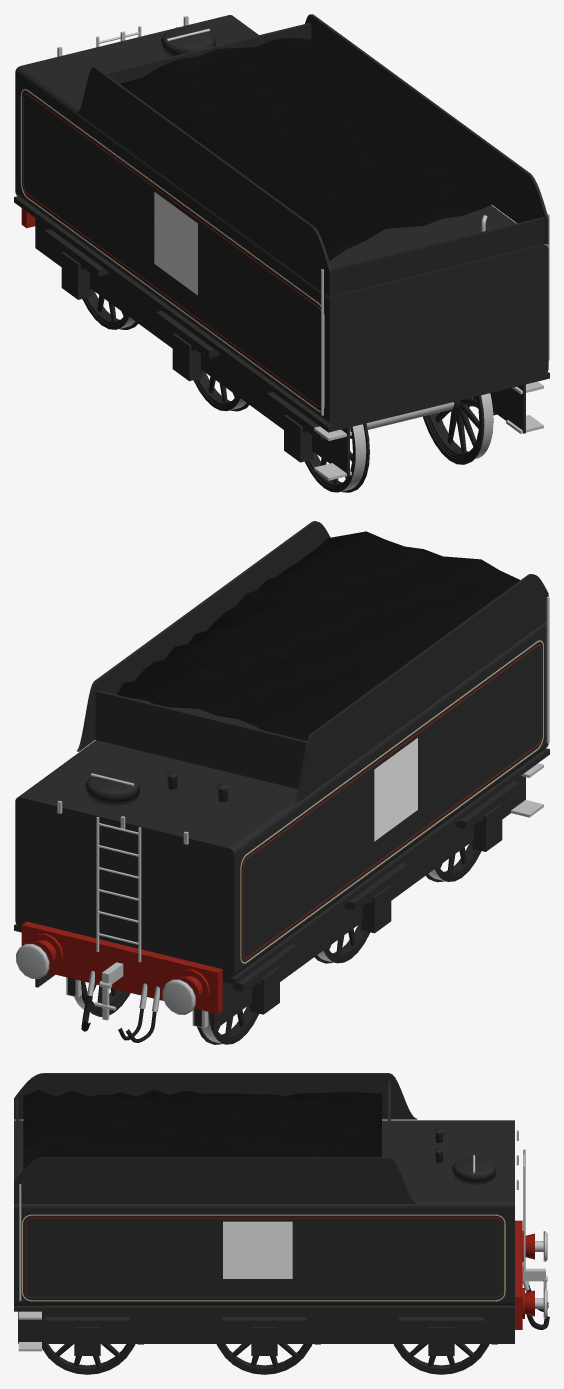
File: tender_lod1.glb
3 views of the same model, one above another, from view 1: azimuth 30°, elevation 25°; view 2: azimuth 150°, elevation 25°; view 3: azimuth 270°, elevation 25° (orthographic). The views are drawn at different scales.
Visible parts, largest first — view 1: tender_static_paint_black, tender_static_coal, tender_static_smokebox, ws_t0_wheel, tender_static_decal_emblem, tender_static_steel, ws_t0_steel, tender_static_lining, tender_static_lining_red, ws_t1_wheel, ws_t2_wheel; view 2: tender_static_paint_black, tender_static_coal, tender_static_paint_red, tender_static_steel, tender_static_decal_emblem, ws_t2_wheel, tender_static_lining, tender_static_lining_red, ws_t1_wheel, ws_t0_wheel, tender_static_rubber; view 3: tender_static_paint_black, tender_static_coal, tender_static_decal_emblem_l, tender_static_steel, tender_static_lining, tender_static_paint_red, ws_t1_wheel, ws_t2_wheel, ws_t0_wheel, tender_static_lining_red.
Part boxes in pixels (x1=…): tender_static_paint_black: x1=14, y1=14, x2=549, y2=476; tender_static_coal: x1=120, y1=37, x2=537, y2=260; tender_static_smokebox: x1=331, y1=217, x2=545, y2=295; ws_t0_wheel: x1=305, y1=393, x2=493, y2=492; tender_static_decal_emblem: x1=154, y1=192, x2=197, y2=295; tender_static_steel: x1=16, y1=16, x2=549, y2=480; ws_t0_steel: x1=342, y1=393, x2=493, y2=491; tender_static_lining: x1=20, y1=89, x2=324, y2=412; tender_static_lining_red: x1=23, y1=93, x2=320, y2=407; ws_t1_wheel: x1=193, y1=371, x2=248, y2=411; ws_t2_wheel: x1=82, y1=289, x2=138, y2=329; tender_static_paint_black: x1=14, y1=521, x2=549, y2=1030; tender_static_coal: x1=117, y1=531, x2=520, y2=740; tender_static_paint_red: x1=21, y1=921, x2=222, y2=1013; tender_static_steel: x1=16, y1=597, x2=549, y2=1028; tender_static_decal_emblem: x1=374, y1=738, x2=417, y2=841; ws_t2_wheel: x1=81, y1=981, x2=258, y2=1044; tender_static_lining: x1=240, y1=640, x2=543, y2=963; tender_static_lining_red: x1=242, y1=644, x2=541, y2=959; ws_t1_wheel: x1=314, y1=923, x2=370, y2=963; ws_t0_wheel: x1=426, y1=842, x2=481, y2=882; tender_static_rubber: x1=81, y1=995, x2=156, y2=1042; tender_static_paint_black: x1=14, y1=1073, x2=514, y2=1355; tender_static_coal: x1=23, y1=1089, x2=381, y2=1169; tender_static_decal_emblem_l: x1=223, y1=1221, x2=292, y2=1278; tender_static_steel: x1=18, y1=1119, x2=547, y2=1351; tender_static_lining: x1=22, y1=1214, x2=505, y2=1301; tender_static_paint_red: x1=515, y1=1220, x2=534, y2=1329; ws_t1_wheel: x1=216, y1=1344, x2=312, y2=1374; ws_t2_wheel: x1=393, y1=1344, x2=489, y2=1374; ws_t0_wheel: x1=42, y1=1344, x2=135, y2=1374; tender_static_lining_red: x1=25, y1=1218, x2=501, y2=1297.
Size of the model in its own units: 2.71 by 3.34 by 6.92.
